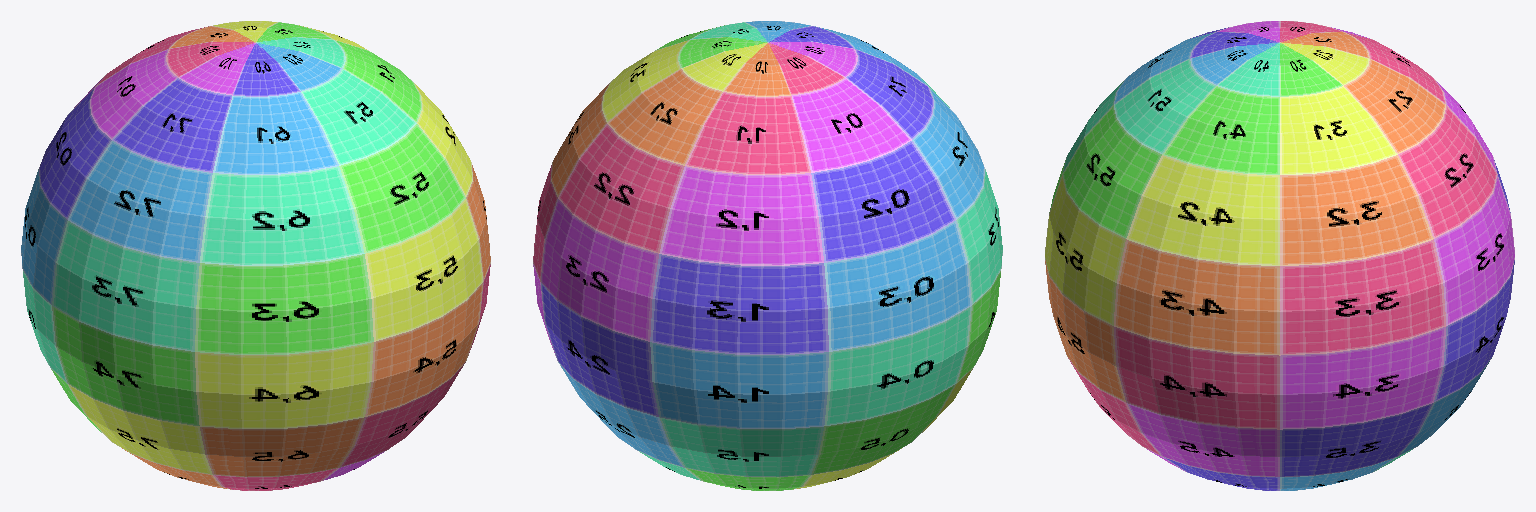
3 views of the same model, side by side, from view 1: azimuth 30°, elevation 25°; view 2: azimuth 150°, elevation 25°; view 3: azimuth 270°, elevation 25° (orthographic).
Visible parts, largest first — view 1: 球; view 2: 球; view 3: 球.
Boxes of the visible parts, x1=… form: 球: x1=21, y1=21, x2=490, y2=490; 球: x1=533, y1=21, x2=1002, y2=490; 球: x1=1045, y1=21, x2=1514, y2=490.
Size of the model in its own units: 2 by 2 by 2.
1 materials, 1 textured.